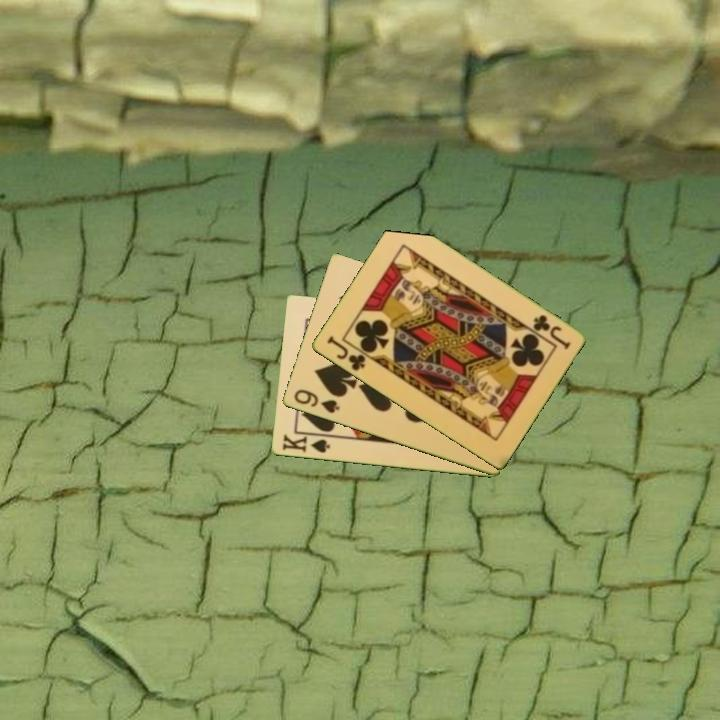9s: (290, 386, 342, 416)
Jc: (323, 332, 368, 374), (529, 311, 573, 352)
Ks: (278, 430, 333, 456)
